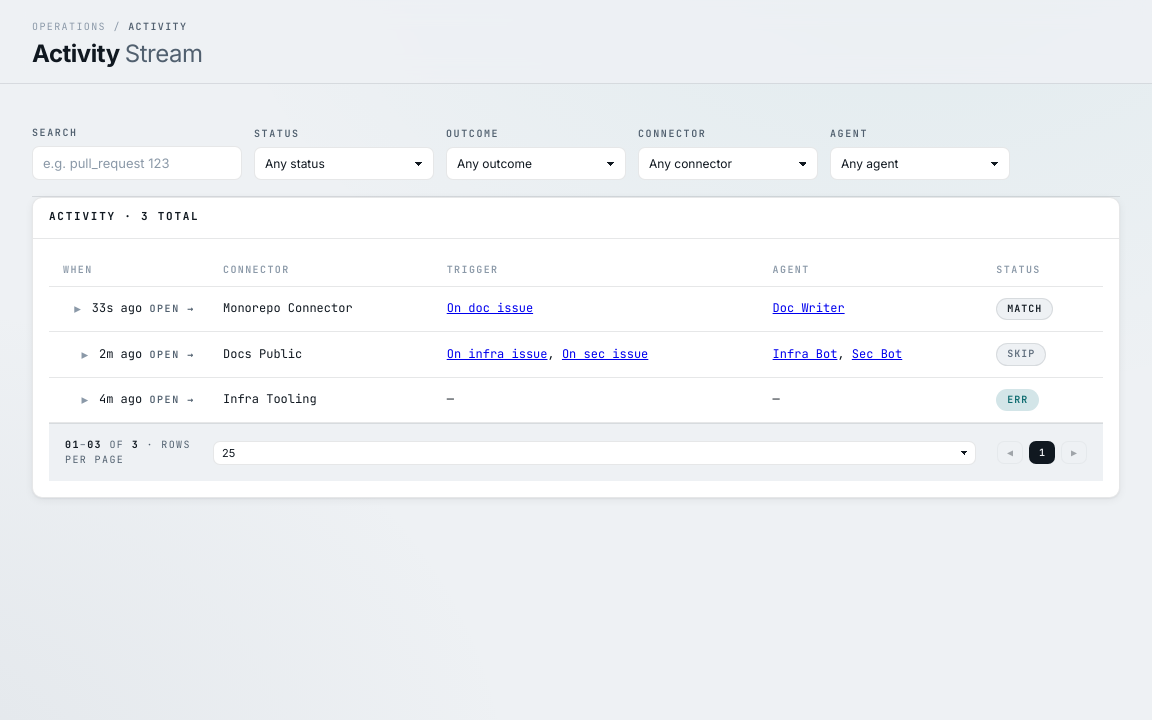
Test case: Activity › agent filter shows events with multiple matches when any match has the agent
The width and height of the screenshot is (1152, 720).
Expected: the link with aria-label "Open event e1" is shown, [49,286,1103,332]
Note: Filter by infra-bot — only e3 has this agent (in a multi-match)
Select "Infra Bot" in the dropdown named "filter by agent": [920, 164] box [830,147,1010,180]
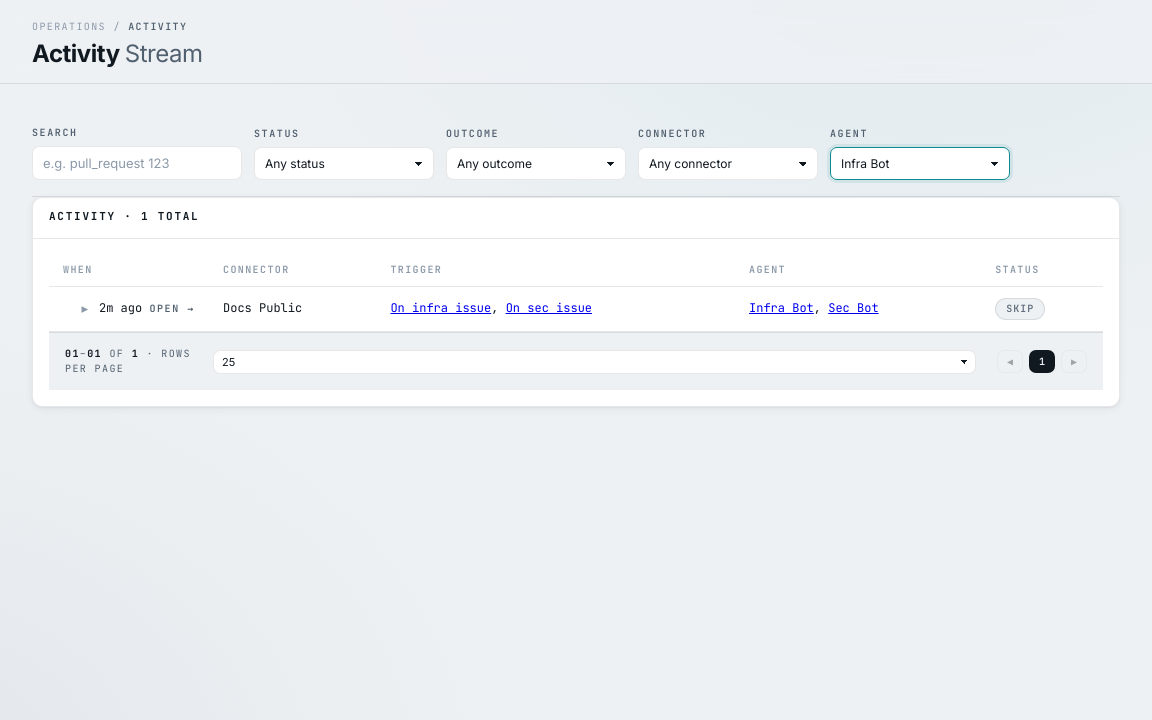
Expected: the table shows "Docs Public", [223,300,302,316]
Expected: the link "Monorepo Connector" no longer shows "Monorepo Connector"
Expected: the link "Infra Tooling" no longer shows "Infra Tooling"
